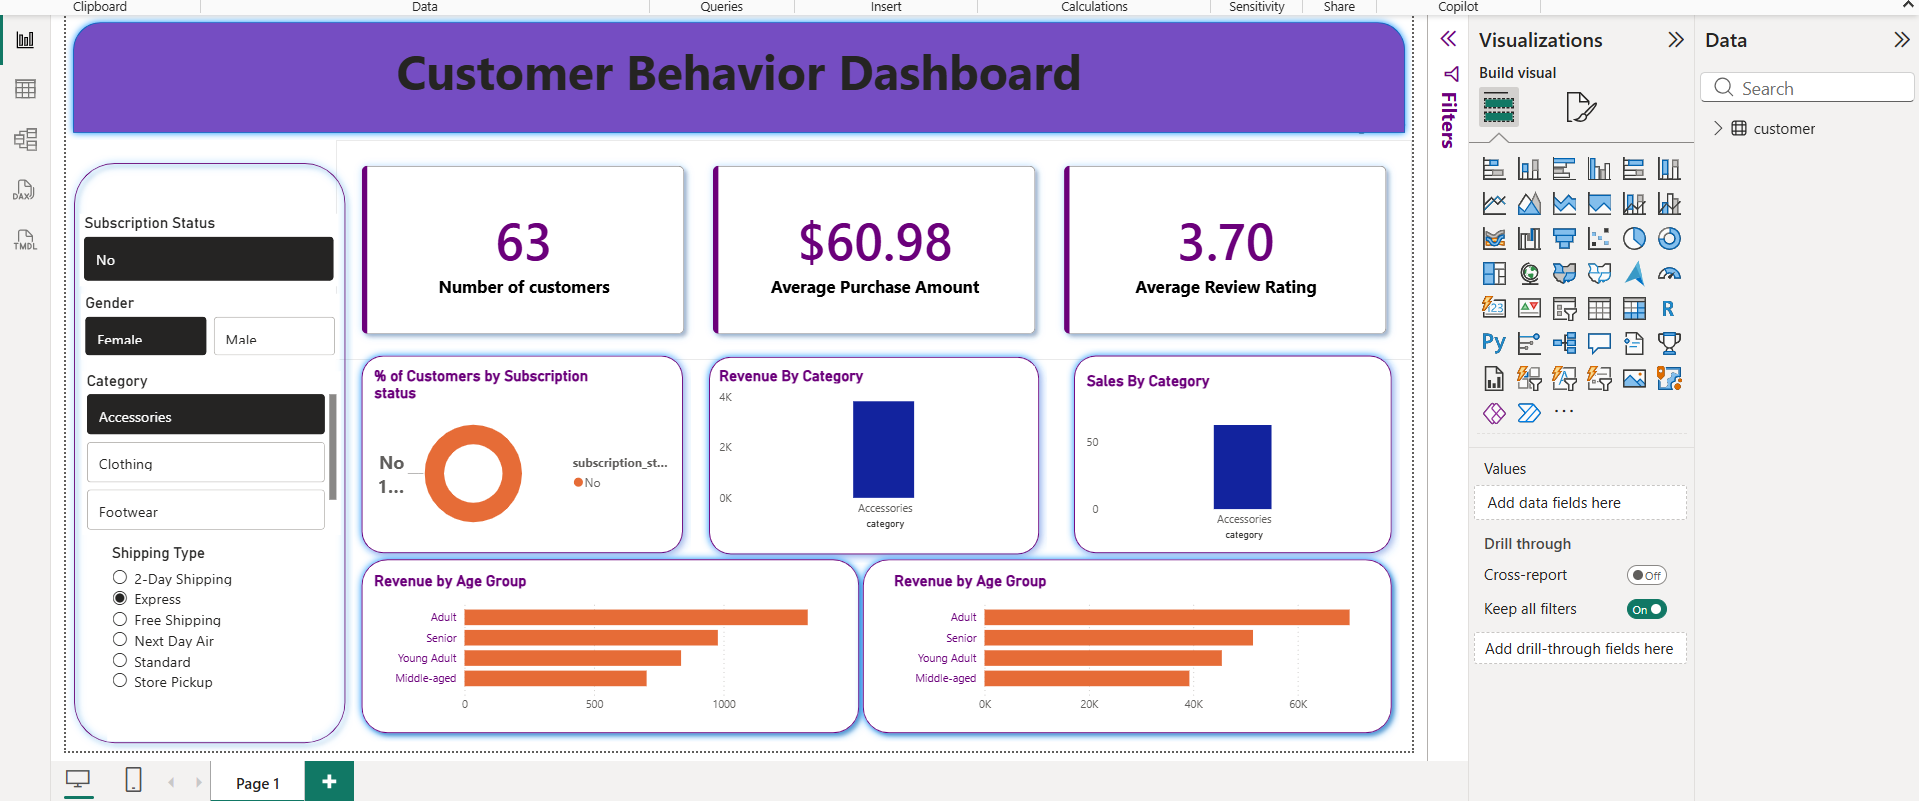

The dashboard page shown, as its layout file describes it:
{"tool":"powerbi","page":{"name":"Page 1","canvas":[1500,820],"ordinal":0},"visuals":[{"type":"cardVisual","fields":{"Data":["customer.Number of customers","customer.Average Purchase Amount","customer.Average Review Rating"]},"box":[300.8,139.3,1199.1,245.1],"z":0},{"type":"shape","box":[0,0,1499.9,139.3],"z":1000},{"type":"textbox","box":[0,20.9,1499.9,97.5],"z":2000},{"type":"shape","box":[320.3,370.5,376,238.1],"z":3000},{"type":"donutChart","title":"% of Customers by Subscription status","fields":{"Y":["CountNonNull(customer.customer_id)"],"Category":["customer.subscription_status"]},"box":[338.4,391.3,341.2,197.8],"z":4000},{"type":"shape","box":[707.5,371.8,385.8,238.1],"z":5000},{"type":"shape","box":[1114.1,370.5,371.8,238.1],"z":6000},{"type":"clusteredColumnChart","title":"Revenue By Category","fields":{"Y":["Sum(customer.purchase_amount)"],"Category":["customer.category"]},"box":[722.8,391.3,356.5,186.6],"z":7000},{"type":"clusteredColumnChart","title":"Sales By Category","fields":{"Y":["CountNonNull(customer.purchase_amount)"],"Category":["customer.category"]},"box":[1132.2,396.9,338.4,193.6],"z":8000},{"type":"shape","box":[0,156,320.3,664.3],"z":9000},{"type":"advancedSlicerVisual","fields":{"Values":["customer.subscription_status"]},"box":[15.3,221.4,288.3,80.8],"z":10000},{"type":"advancedSlicerVisual","fields":{"Values":["customer.gender"]},"box":[16.7,310.6,288.3,73.8],"z":11000},{"type":"advancedSlicerVisual","fields":{"Values":["customer.category"]},"box":[18.1,396.9,288.3,182.4],"z":12000},{"type":"listSlicer","fields":{"Values":["customer.shipping_type"]},"box":[46,589.1,228.4,220],"z":13000},{"type":"shape","box":[320.3,597.5,572.4,211.7],"z":14000},{"type":"clusteredBarChart","title":"Revenue by Age Group","fields":{"Y":["Sum(customer.purchase_amount)"],"Category":["customer.age_group"]},"box":[338.4,619.7,527.8,167.1],"z":15000},{"type":"shape","box":[878.8,597.5,607.2,211.7],"z":15001},{"type":"clusteredBarChart","title":"Revenue by Age Group","fields":{"Y":["Sum(customer.customer_id)"],"Category":["customer.age_group"]},"box":[917.8,619.7,527.8,167.1],"z":15002}]}

Visuals, with their boxes on the page's 1500x820 design canvas (x1, y1, x2, y2). These are canvas units, not pixel positions in the 1919x801 screenshot, which may show the page scaled, cropped or inside an application window:
cardVisual - customer.Number of customers x customer.Average Purchase Amount: {"left": 301, "top": 139, "right": 1500, "bottom": 384}
shape: {"left": 0, "top": 0, "right": 1500, "bottom": 139}
textbox: {"left": 0, "top": 21, "right": 1500, "bottom": 118}
shape: {"left": 320, "top": 370, "right": 696, "bottom": 609}
"% of Customers by Subscription status" donutChart: {"left": 338, "top": 391, "right": 680, "bottom": 589}
shape: {"left": 708, "top": 372, "right": 1093, "bottom": 610}
shape: {"left": 1114, "top": 370, "right": 1486, "bottom": 609}
"Revenue By Category" clusteredColumnChart: {"left": 723, "top": 391, "right": 1079, "bottom": 578}
"Sales By Category" clusteredColumnChart: {"left": 1132, "top": 397, "right": 1471, "bottom": 590}
shape: {"left": 0, "top": 156, "right": 320, "bottom": 820}
advancedSlicerVisual - customer.subscription_status: {"left": 15, "top": 221, "right": 304, "bottom": 302}
advancedSlicerVisual - customer.gender: {"left": 17, "top": 311, "right": 305, "bottom": 384}
advancedSlicerVisual - customer.category: {"left": 18, "top": 397, "right": 306, "bottom": 579}
listSlicer - customer.shipping_type: {"left": 46, "top": 589, "right": 274, "bottom": 809}
shape: {"left": 320, "top": 598, "right": 893, "bottom": 809}
"Revenue by Age Group" clusteredBarChart: {"left": 338, "top": 620, "right": 866, "bottom": 787}
shape: {"left": 879, "top": 598, "right": 1486, "bottom": 809}
"Revenue by Age Group" clusteredBarChart: {"left": 918, "top": 620, "right": 1446, "bottom": 787}
